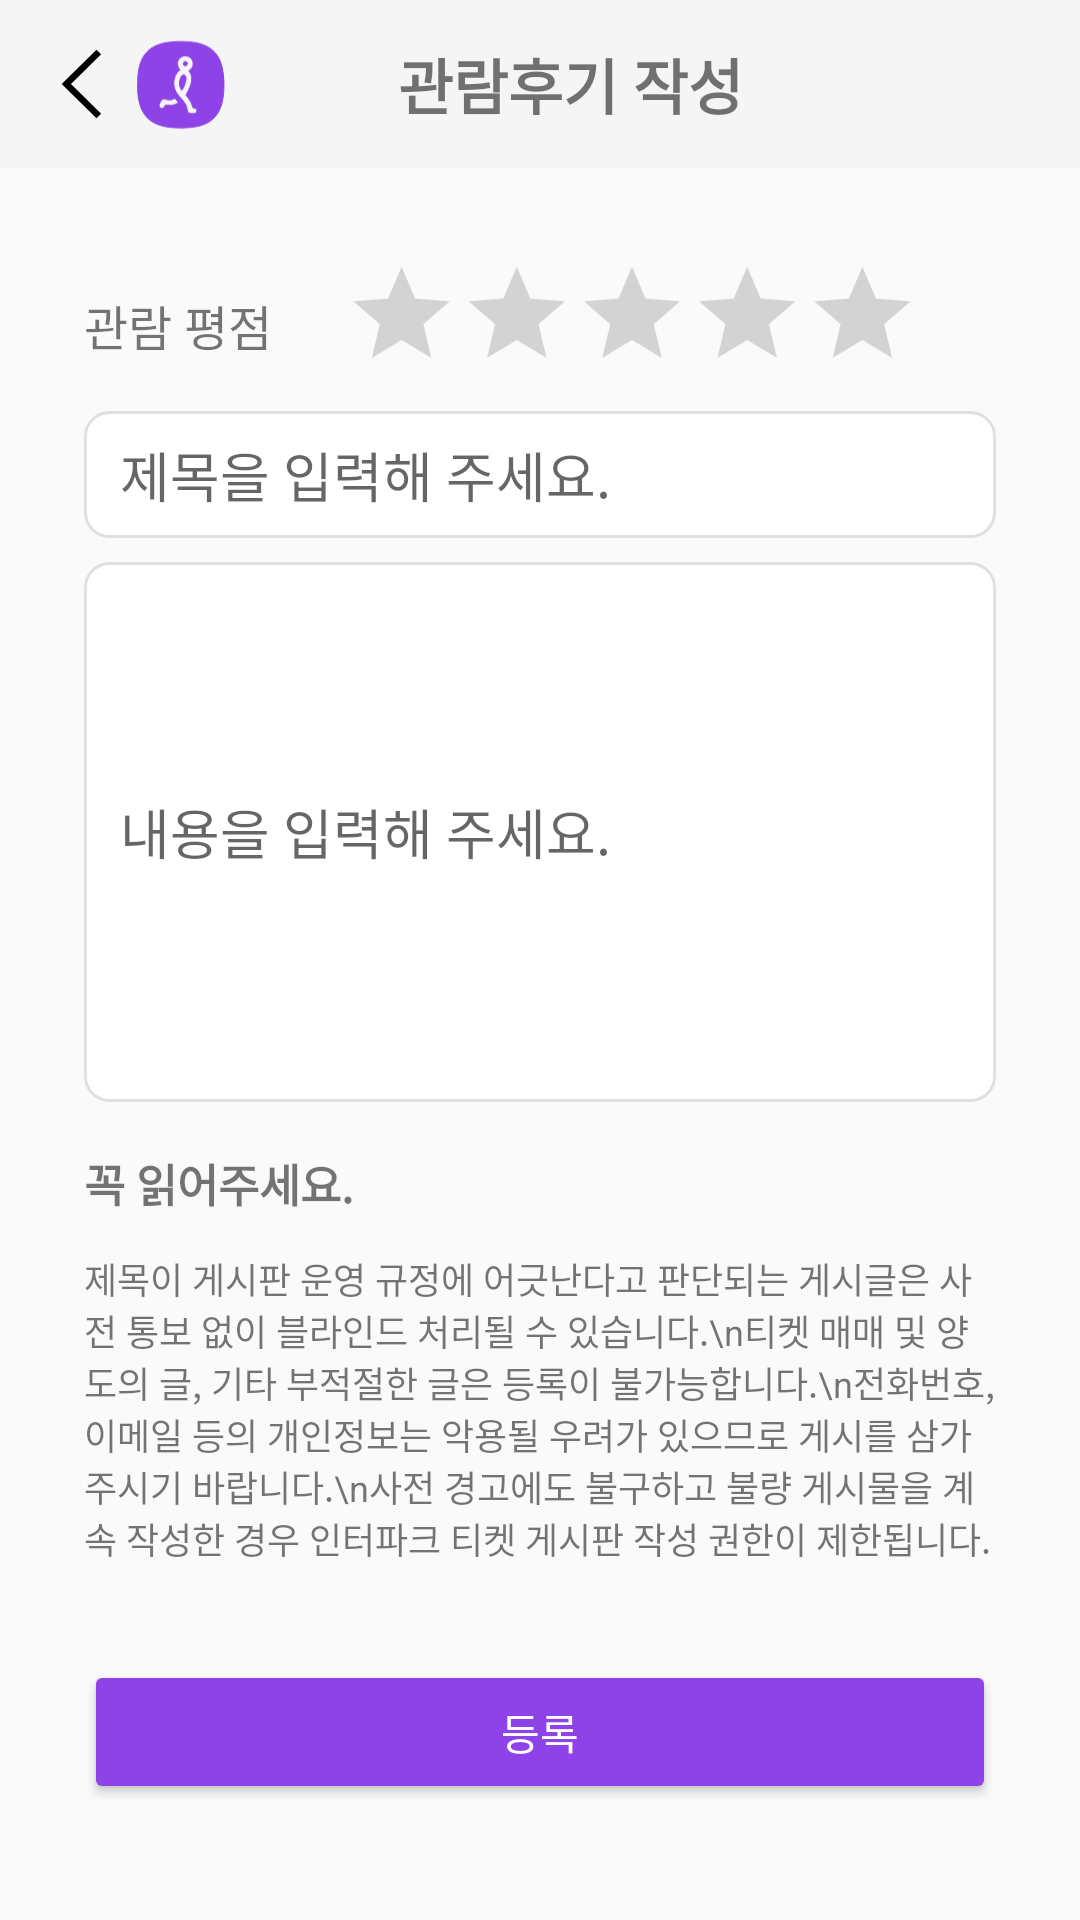

Where to tap for icons on this 1080×1920 app screen, as (x=x, y=y):
뒤로가기: (x=81, y=84)
아이콘: (x=181, y=84)
